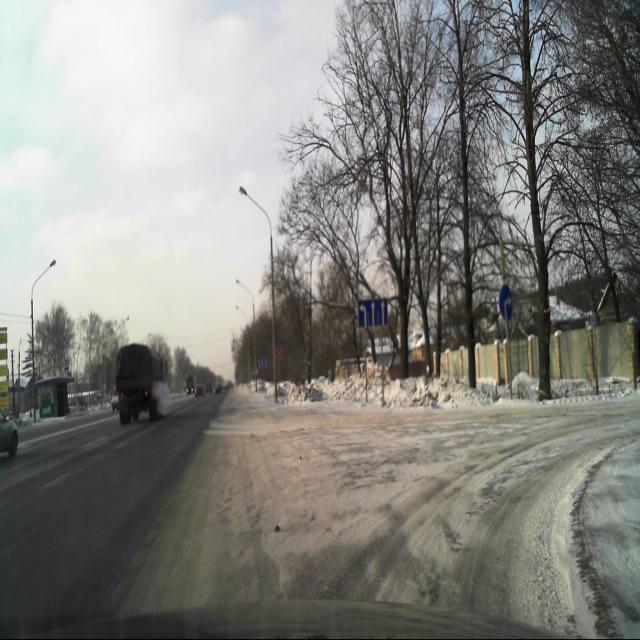road sign: (357, 298, 387, 326)
